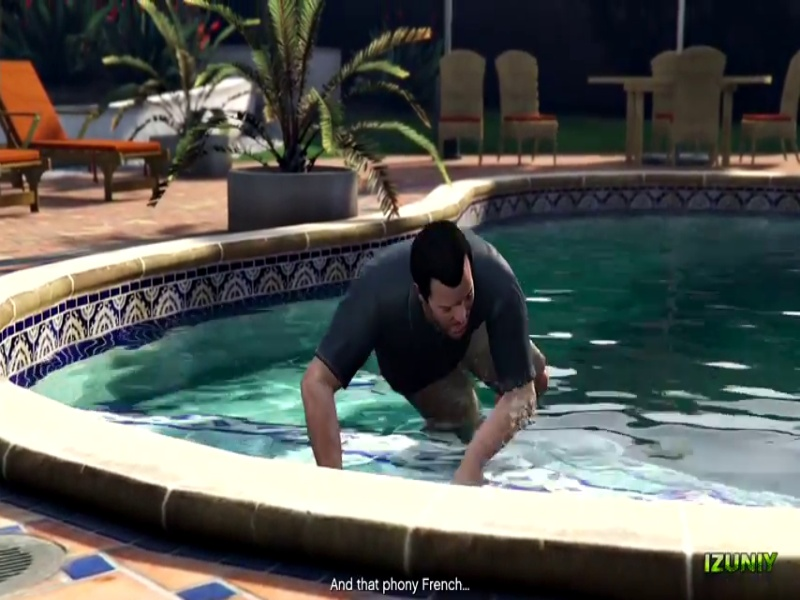human: (290, 210, 546, 485)
